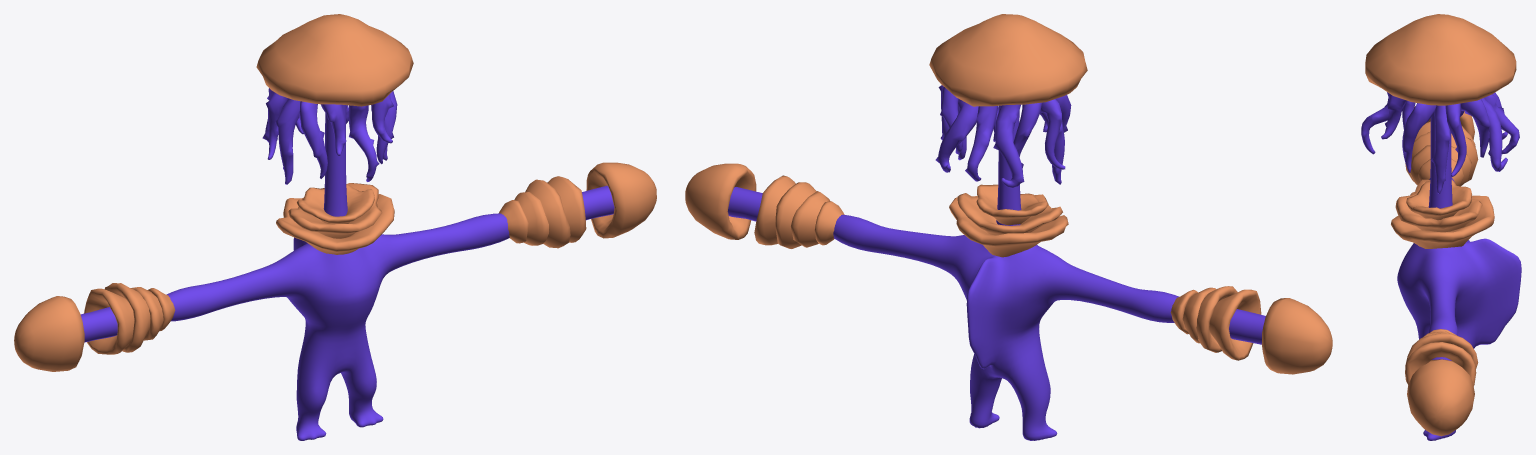
Rendered from Glow Boss FBX.fbx.
3 views of the same model, side by side, from view 1: azimuth 30°, elevation 25°; view 2: azimuth 150°, elevation 25°; view 3: azimuth 270°, elevation 25° (orthographic). The views are drawn at different scales.
Parts seen in each view (by area): view 1: GB Body Retopo.003, GB Head Shroom Retopo.003, GB Hands Right Retopo.003, GB Hands Left Retopo.003, GB Neck Shrooms 1 Retopo.003, GB Right Wrist Shrooms 4 Retopo.003, GB Neck Shrooms 2 Retopo.003, GB Neck Shrooms 3 Retopo.003, GB Left Wrist Shrooms 3 Retopo.003, GB Left Wrist Shrooms 4 Retopo.003, GB Thorns 3 Retopo.006, GB Right Wrist Shrooms 3 Retopo.003 (+9 smaller); view 2: GB Body Retopo.003, GB Head Shroom Retopo.003, GB Hands Right Retopo.003, GB Hands Left Retopo.003, GB Neck Shrooms 1 Retopo.003, GB Right Wrist Shrooms 4 Retopo.003, GB Neck Shrooms 2 Retopo.003, GB Thorns 6 Retopo.002, GB Neck Shrooms 3 Retopo.003, GB Left Wrist Shrooms 4 Retopo.003, GB Left Wrist Shrooms 3 Retopo.003, GB Thorns 6 Retopo.001 (+9 smaller); view 3: GB Body Retopo.003, GB Head Shroom Retopo.003, GB Hands Left Retopo.003, GB Neck Shrooms 1 Retopo.003, GB Neck Shrooms 2 Retopo.003, GB Left Wrist Shrooms 4 Retopo.003, GB Neck Shrooms 3 Retopo.003, GB Thorns 3 Retopo.001, GB Thorns 2 Retopo.001, GB Thorns 6 Retopo.001, GB Thorns 4 Retopo.006, GB Thorns 5 Retopo.006 (+10 smaller).
Boxes of the visible parts, left/top/right/bottom form: GB Body Retopo.003: left=166, top=104, right=509, bottom=440; GB Head Shroom Retopo.003: left=256, top=14, right=413, bottom=106; GB Hands Right Retopo.003: left=14, top=296, right=84, bottom=371; GB Hands Left Retopo.003: left=586, top=162, right=656, bottom=238; GB Neck Shrooms 1 Retopo.003: left=276, top=194, right=394, bottom=254; GB Right Wrist Shrooms 4 Retopo.003: left=84, top=288, right=134, bottom=354; GB Neck Shrooms 2 Retopo.003: left=288, top=183, right=382, bottom=238; GB Neck Shrooms 3 Retopo.003: left=297, top=184, right=374, bottom=224; GB Left Wrist Shrooms 3 Retopo.003: left=525, top=179, right=570, bottom=248; GB Left Wrist Shrooms 4 Retopo.003: left=547, top=176, right=586, bottom=242; GB Thorns 3 Retopo.006: left=275, top=98, right=300, bottom=184; GB Right Wrist Shrooms 3 Retopo.003: left=104, top=283, right=150, bottom=352; GB Body Retopo.003: left=833, top=105, right=1179, bottom=440; GB Head Shroom Retopo.003: left=929, top=14, right=1087, bottom=106; GB Hands Right Retopo.003: left=1261, top=298, right=1332, bottom=374; GB Hands Left Retopo.003: left=685, top=163, right=756, bottom=239; GB Neck Shrooms 1 Retopo.003: left=949, top=196, right=1068, bottom=257; GB Right Wrist Shrooms 4 Retopo.003: left=1209, top=289, right=1261, bottom=360; GB Neck Shrooms 2 Retopo.003: left=957, top=193, right=1062, bottom=235; GB Thorns 6 Retopo.002: left=993, top=104, right=1024, bottom=188; GB Neck Shrooms 3 Retopo.003: left=976, top=184, right=1048, bottom=225; GB Left Wrist Shrooms 4 Retopo.003: left=754, top=175, right=795, bottom=245; GB Left Wrist Shrooms 3 Retopo.003: left=775, top=182, right=816, bottom=248; GB Thorns 6 Retopo.001: left=935, top=100, right=978, bottom=172; GB Body Retopo.003: left=1397, top=112, right=1521, bottom=440; GB Head Shroom Retopo.003: left=1365, top=14, right=1516, bottom=105; GB Hands Left Retopo.003: left=1407, top=359, right=1474, bottom=436; GB Neck Shrooms 1 Retopo.003: left=1391, top=192, right=1494, bottom=248; GB Neck Shrooms 2 Retopo.003: left=1395, top=179, right=1482, bottom=232; GB Left Wrist Shrooms 4 Retopo.003: left=1405, top=342, right=1476, bottom=386; GB Neck Shrooms 3 Retopo.003: left=1406, top=179, right=1471, bottom=220; GB Thorns 3 Retopo.001: left=1431, top=105, right=1450, bottom=193; GB Thorns 2 Retopo.001: left=1402, top=103, right=1436, bottom=172; GB Thorns 6 Retopo.001: left=1465, top=98, right=1507, bottom=171; GB Thorns 4 Retopo.006: left=1445, top=103, right=1466, bottom=176; GB Thorns 5 Retopo.006: left=1460, top=99, right=1490, bottom=157.
Size of the model in its own units: 1317 by 807 by 291.
